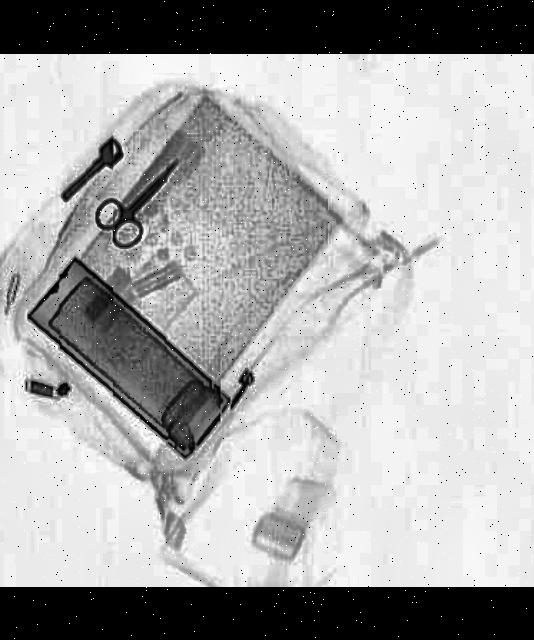Scissors: (82, 148, 198, 255)
